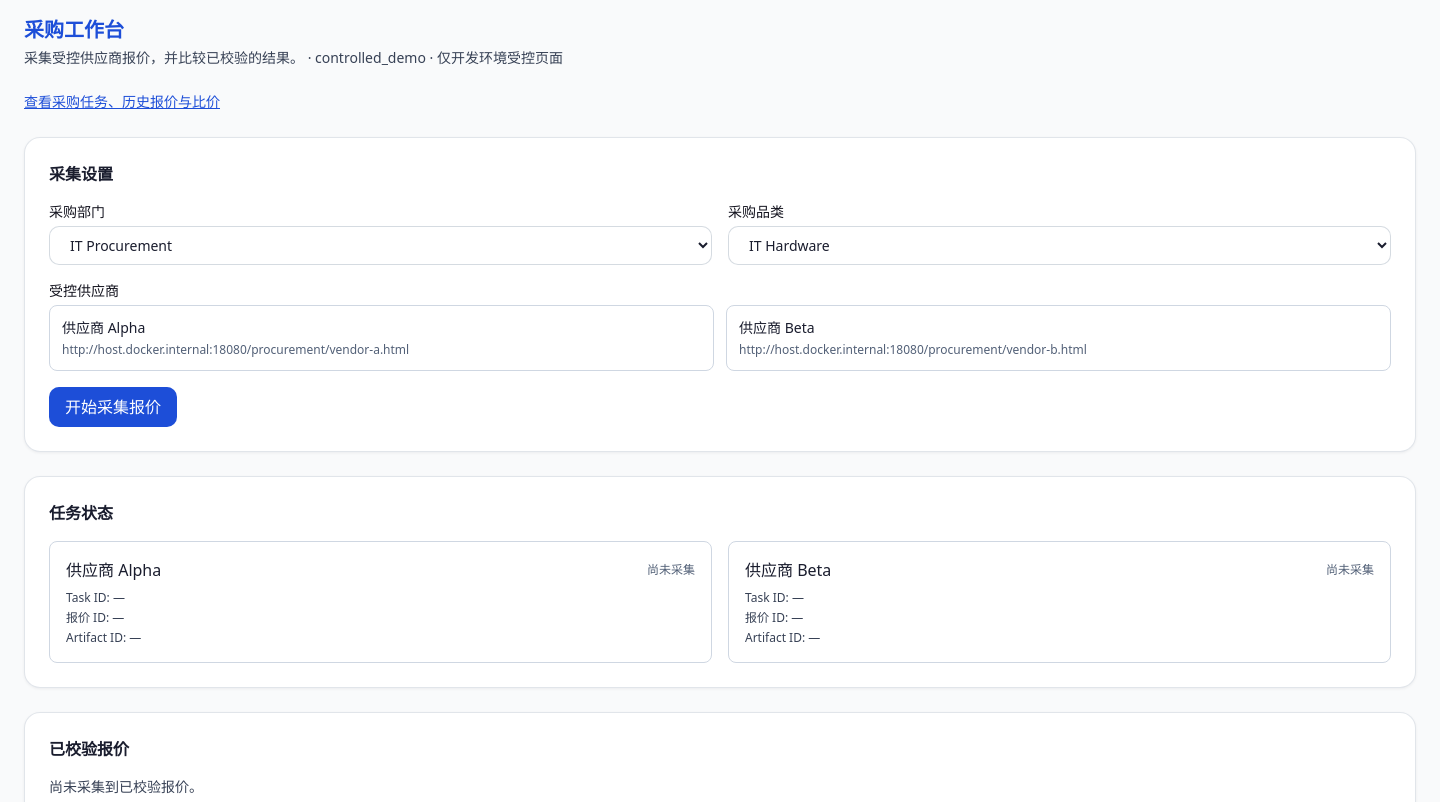
Test case: ProcurementWorkbenchPage › collects both supplier quotes and displays the backend comparison
Click the button "开始采集报价" at {"x": 113, "y": 407}, box [49,387,177,427]
(page scrolled)
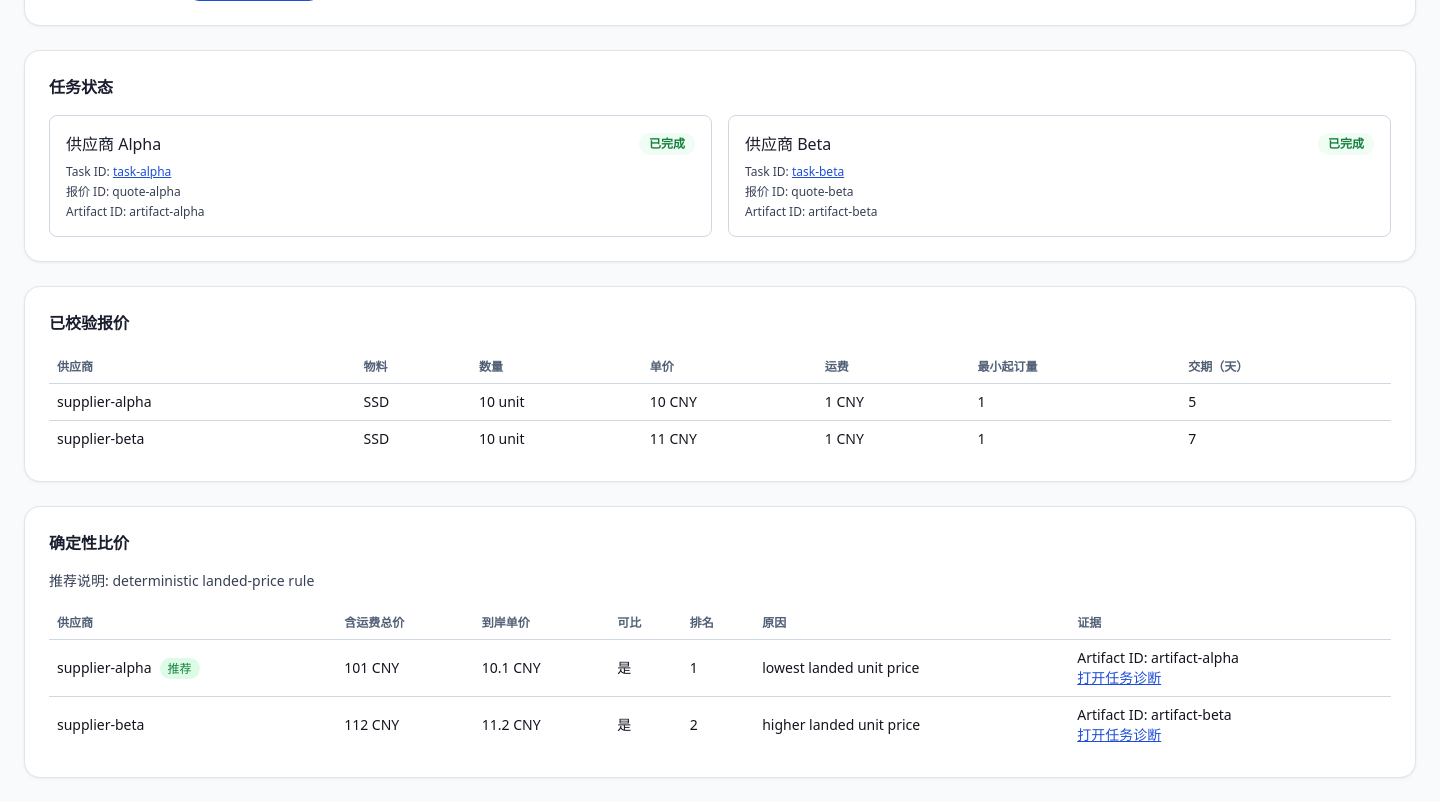
Now the link "task-alpha" is shown, box [113,163,171,180]
Now the link "task-beta" is shown, box [792,163,844,180]
Now the text "Artifact ID: artifact-alpha" below "quote-alpha" is shown, box [129,203,205,220]
